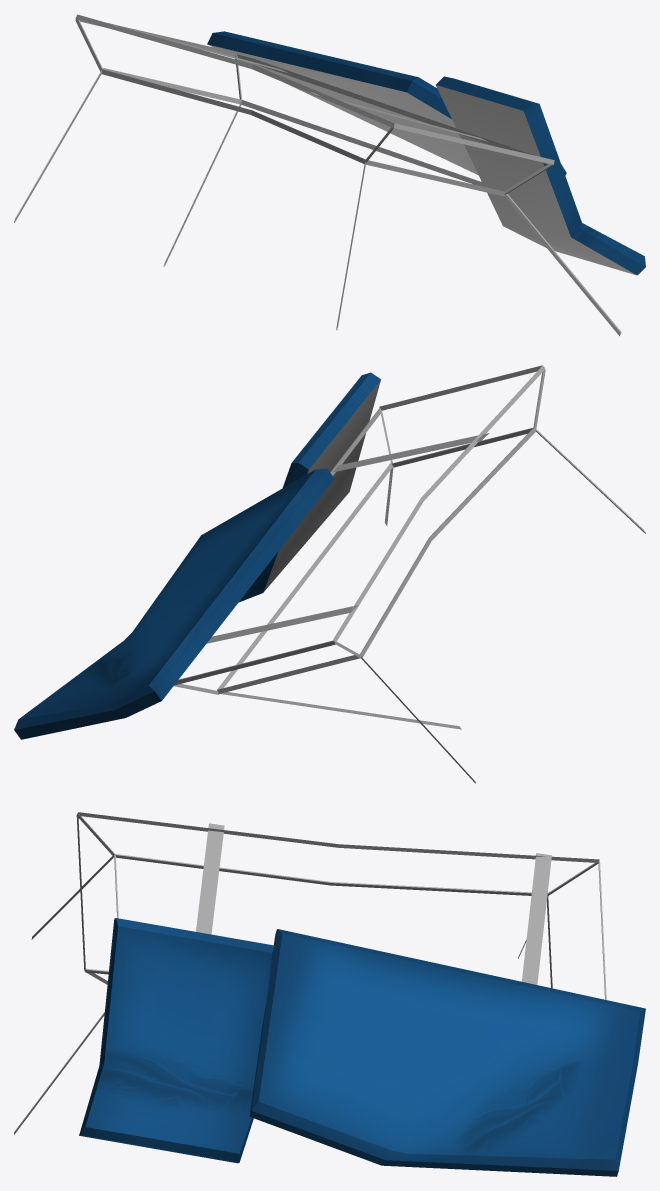
Rendered from camilla r.FBX.
3 views of the same model, one above another, from view 1: azimuth 30°, elevation 25°; view 2: azimuth 150°, elevation 25°; view 3: azimuth 270°, elevation 25° (orthographic). The views are drawn at different scales.
Parts seen in each view (by area): view 1: Box035, Box036, Box034; view 2: Box034, Box036, Box035, Plane011, Plane014; view 3: Box034, Box035, Box036, Plane011, Plane014.
Boxes of the visible parts, x1=… form: Box035: x1=436, y1=76, x2=645, y2=275; Box036: x1=14, y1=14, x2=621, y2=336; Box034: x1=207, y1=31, x2=566, y2=175; Box034: x1=14, y1=469, x2=334, y2=739; Box036: x1=174, y1=365, x2=645, y2=783; Box035: x1=239, y1=372, x2=380, y2=602; Plane011: x1=207, y1=605, x2=357, y2=643; Plane014: x1=333, y1=433, x2=489, y2=472; Box034: x1=249, y1=929, x2=645, y2=1176; Box035: x1=79, y1=918, x2=274, y2=1163; Box036: x1=14, y1=812, x2=606, y2=1134; Plane011: x1=522, y1=853, x2=551, y2=984; Plane014: x1=196, y1=823, x2=224, y2=934.
Size of the model in its own units: 50.44 by 28.06 by 66.77.
